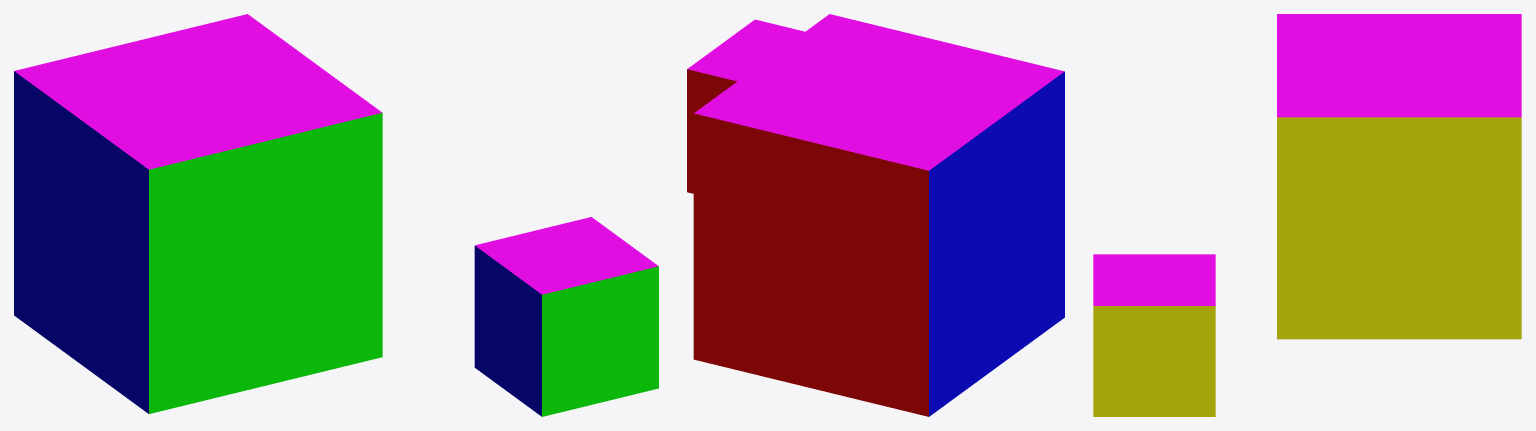
The model's file is demo.obj.
3 views of the same model, side by side, from view 1: azimuth 30°, elevation 25°; view 2: azimuth 150°, elevation 25°; view 3: azimuth 270°, elevation 25° (orthographic). The views are drawn at different scales.
Visible parts, largest first — view 1: A, B; view 2: A, B; view 3: A, B.
Boxes of the visible parts, x1=… form: A: x1=14, y1=14, x2=382, y2=413; B: x1=474, y1=217, x2=658, y2=416; A: x1=693, y1=14, x2=1064, y2=416; B: x1=687, y1=19, x2=804, y2=193; A: x1=1277, y1=14, x2=1521, y2=339; B: x1=1093, y1=254, x2=1215, y2=416.
Bounding box in the file's own units: 7 × 4 × 7.
